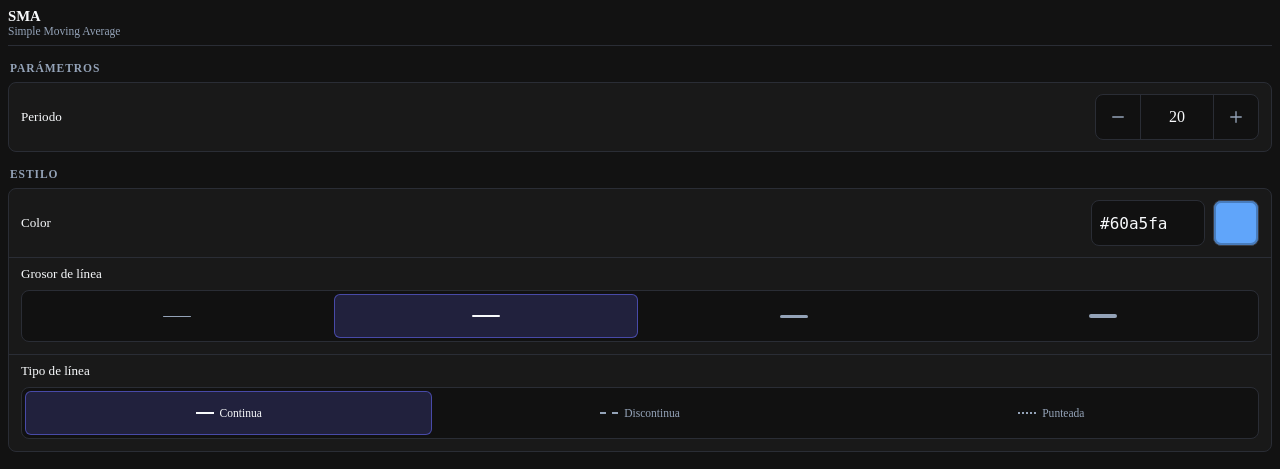
Test: IndicatorSettingsForm › el hex escrito admite forma corta y revierte si no es válido
Replace the text in the field named "Color (hex)" with "#abc" at coordinates (1148, 223), box top-left (1091, 200), bottom-right (1205, 246)
Then press Enter
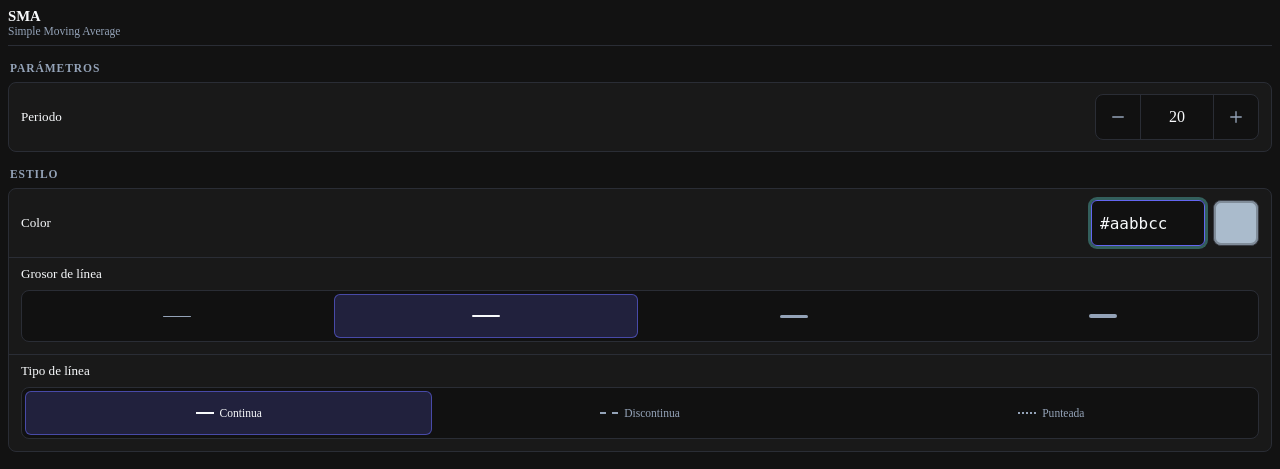
Replace the text in the field named "Color (hex)" with "zz" at coordinates (1148, 223), box top-left (1091, 200), bottom-right (1205, 246)
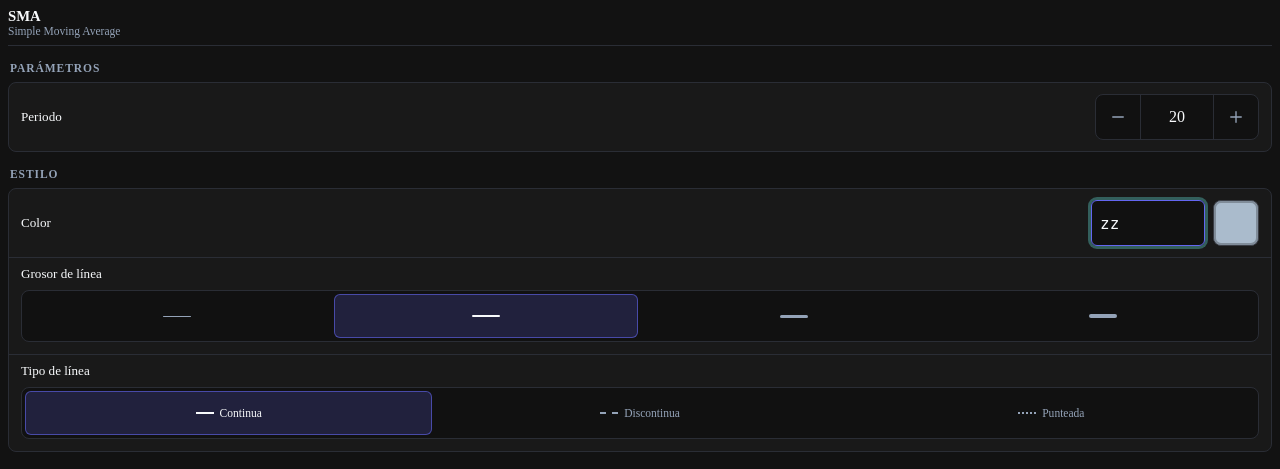
Leave the field named "Color (hex)", box top-left (1091, 200), bottom-right (1205, 246)
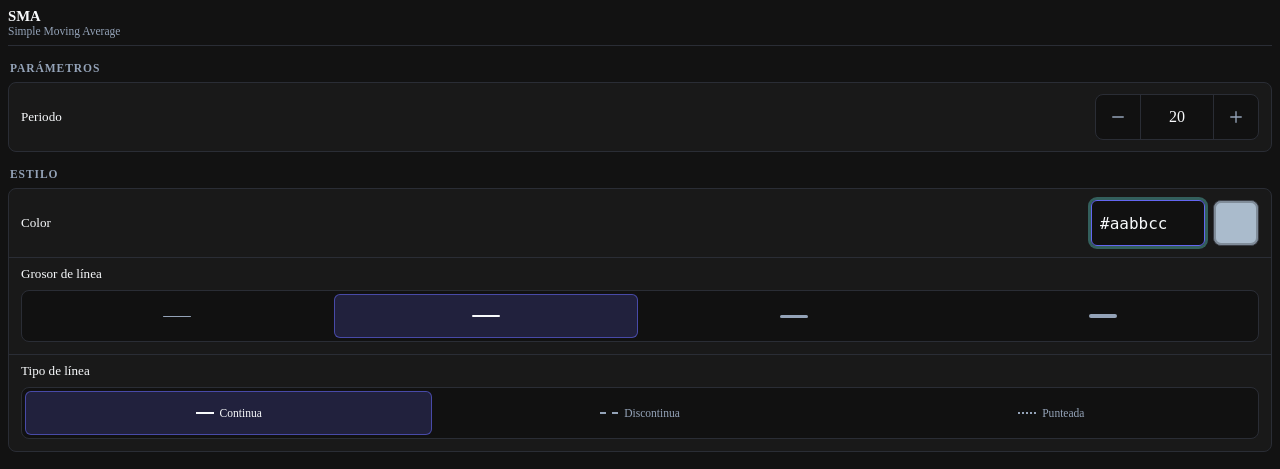
Result: the field named "Color (hex)" holds "#aabbcc" at top-left (1091, 200), bottom-right (1205, 246)
